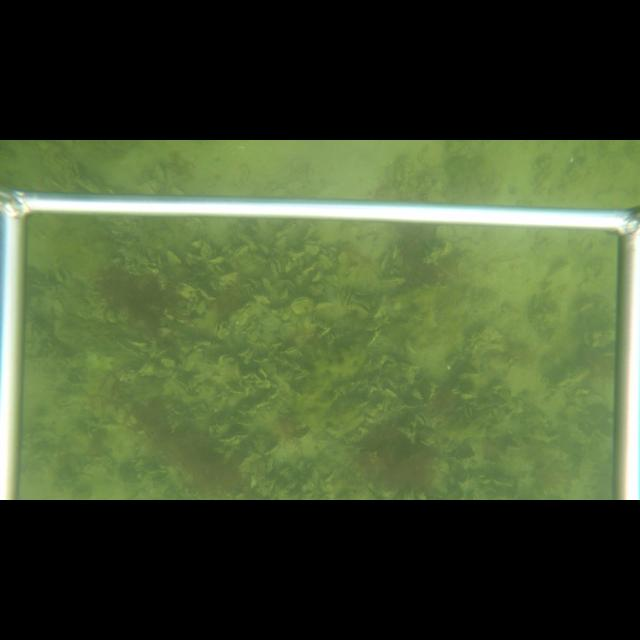Oyster-Closed: (290, 297, 317, 316), (236, 233, 258, 251), (232, 244, 249, 261)
Oyster-Open: (267, 257, 283, 277), (281, 220, 297, 236), (414, 412, 429, 426)
